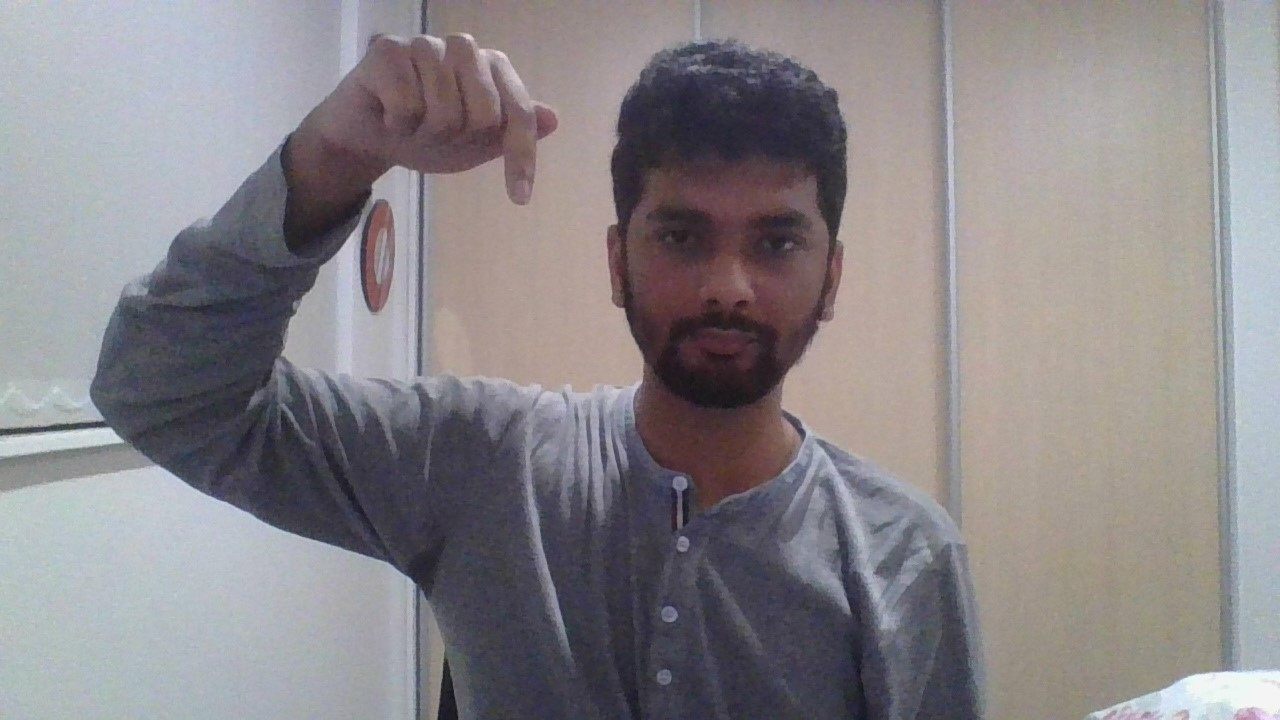below: (300, 31, 558, 204)
